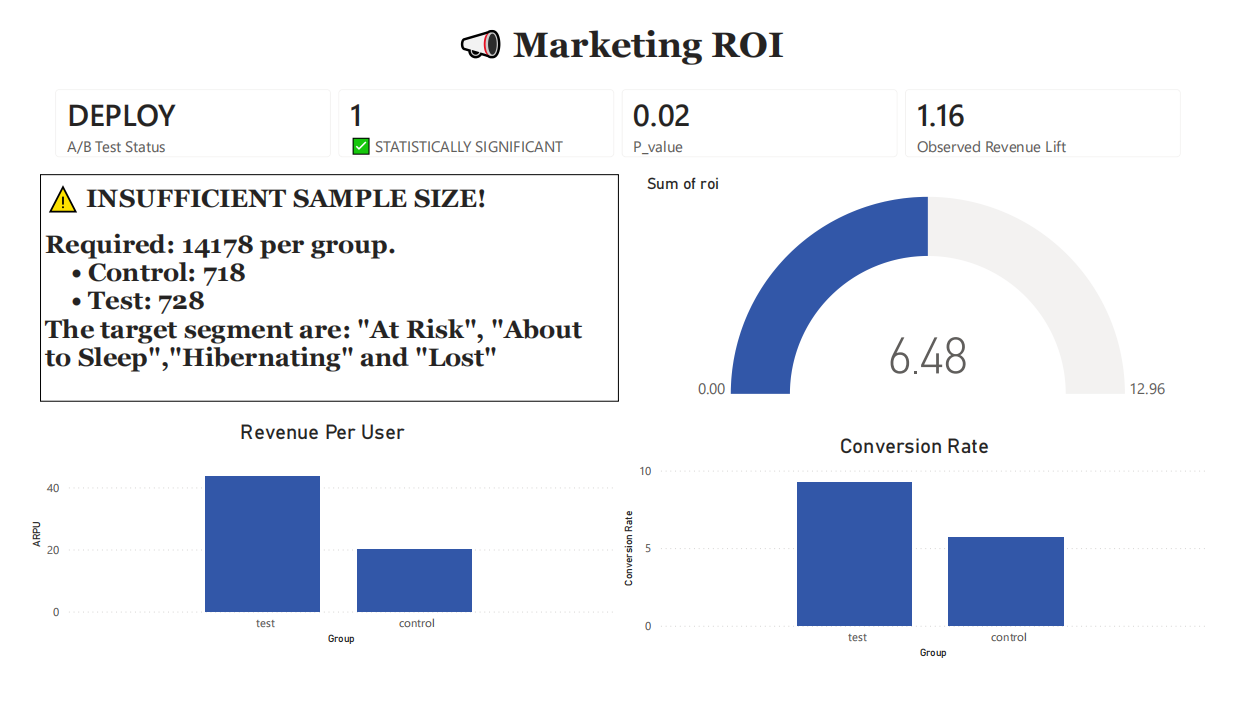

Layout of this report page (visuals, bound fields, positions):
{"tool":"powerbi","page":{"name":"Marketing Roi & AB Testing","canvas":[1280,720],"ordinal":7},"visuals":[{"type":"textbox","box":[465.2,0,434.3,61.8],"z":0},{"type":"clusteredColumnChart","title":"Conversion Rate","fields":{"Y":["Calendar.Conversion Rate"],"Category":["fact_ab_test_results.Group"]},"box":[642.5,444,626.2,242.4],"z":1000},{"type":"cardVisual","fields":{"Data":["Min(ab_test_results.recommendation)","CountNonNull(ab_test_results.is_significant)","Min(ab_test_results.p_value)","Min(ab_test_results.revenue_lift)"]},"box":[28.3,61.7,1226.7,106.7],"z":2000},{"type":"clusteredColumnChart","title":"Revenue Per User","fields":{"Category":["fact_ab_test_results.Group"],"Y":["Calendar.ARPU"]},"box":[15,429,627,242],"z":3001},{"type":"textbox","box":[29.3,169.2,613.2,240.7],"z":3002},{"type":"gauge","fields":{"Y":["Sum(ab_test_results.roi)"]},"box":[666.9,169.2,613.2,242.4],"z":3003}]}

Visuals, with their boxes in screenshot pixels (x1, y1, x2, y2), scaled from the page's 1280x720 canvas onto the 1237x709 screenshot:
textbox: [x1=450, y1=0, x2=869, y2=61]
"Conversion Rate" clusteredColumnChart: [x1=621, y1=437, x2=1226, y2=676]
cardVisual - Min(ab_test_results.recommendation) x CountNonNull(ab_test_results.is_significant): [x1=27, y1=61, x2=1213, y2=166]
"Revenue Per User" clusteredColumnChart: [x1=14, y1=422, x2=620, y2=661]
textbox: [x1=28, y1=167, x2=621, y2=404]
gauge - Sum(ab_test_results.roi): [x1=644, y1=167, x2=1236, y2=405]
